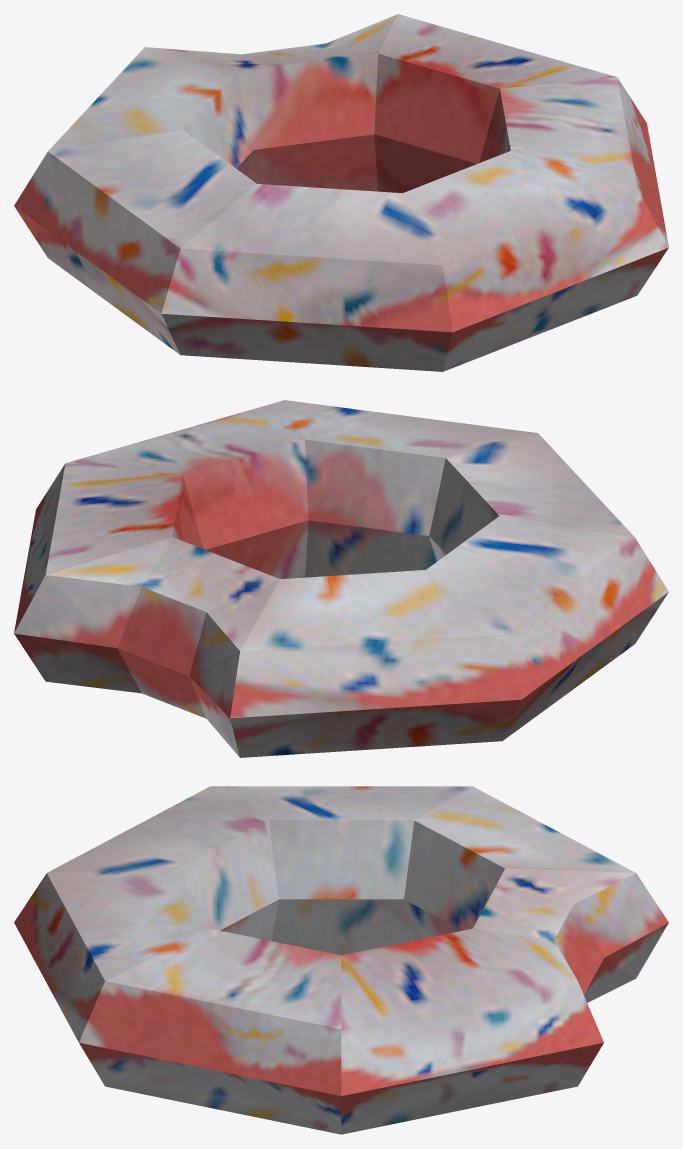
The model's file is FloatyDonut01.obj.
The picture shows the model from 3 angles, top to bottom: view 1: azimuth 30°, elevation 25°; view 2: azimuth 150°, elevation 25°; view 3: azimuth 270°, elevation 25°; orthographic projection.
Visible parts, largest first — view 1: FloatyDonut01; view 2: FloatyDonut01; view 3: FloatyDonut01.
Boxes of the visible parts, <box> form: FloatyDonut01: <box>14,14,668,371</box>; FloatyDonut01: <box>14,400,668,757</box>; FloatyDonut01: <box>14,786,668,1134</box>.
Bounding box in the file's own units: 2.66 × 0.6417 × 2.73.
